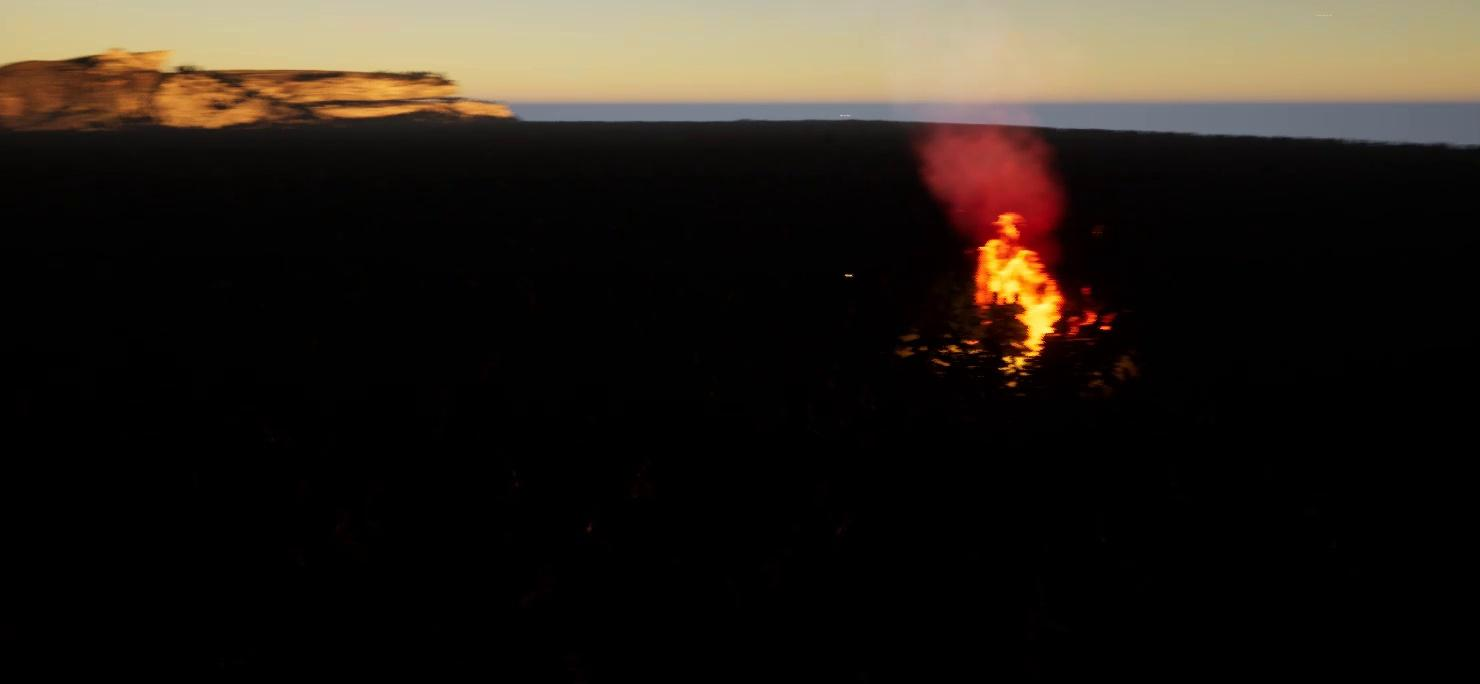fire: (967, 212, 1110, 369)
smoke: (917, 119, 1069, 235)
